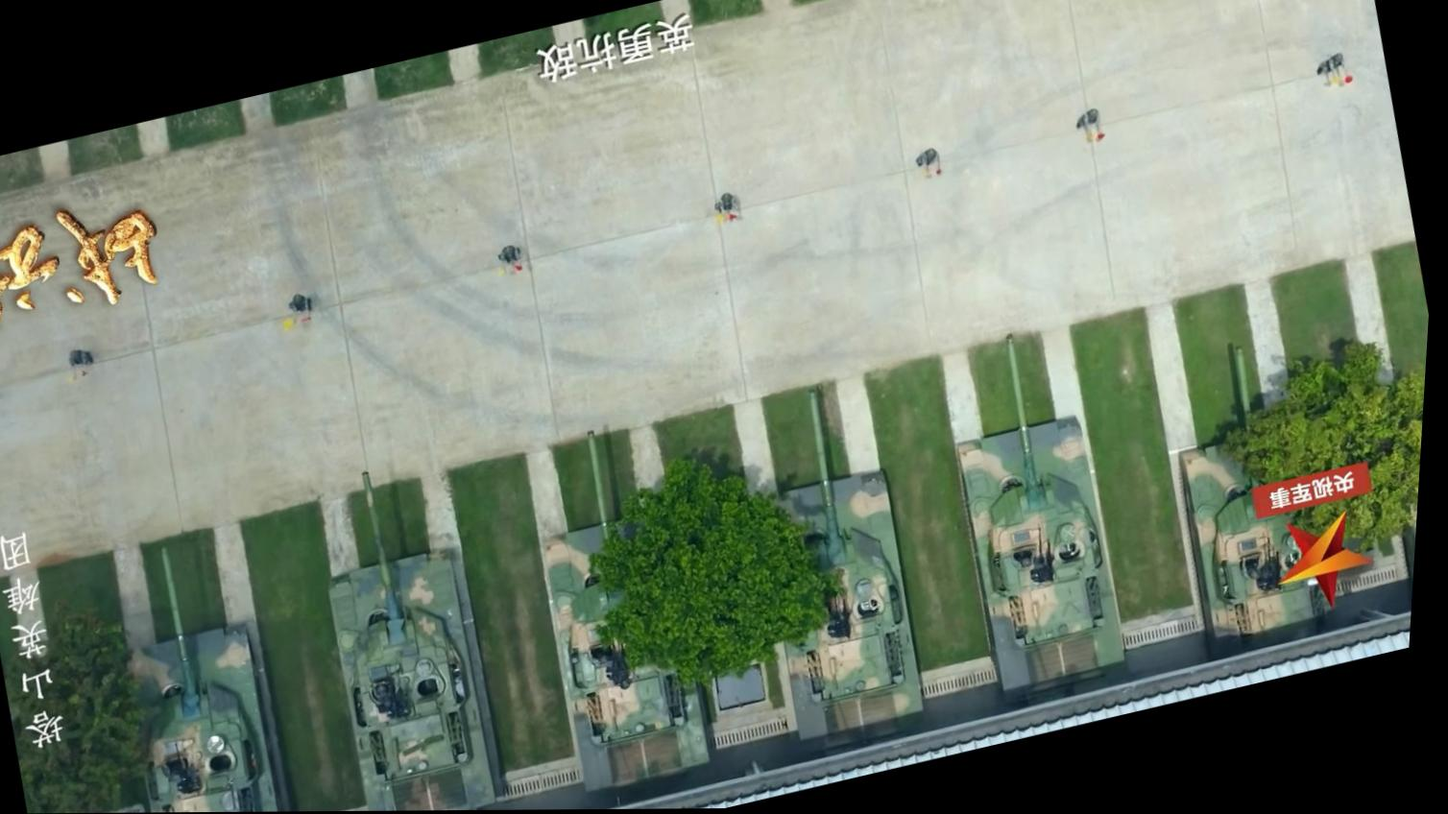tank: (497, 411, 741, 804), (916, 316, 1159, 706), (287, 443, 534, 812), (724, 364, 951, 749), (82, 500, 321, 813), (1140, 332, 1339, 656), (0, 579, 90, 814)
